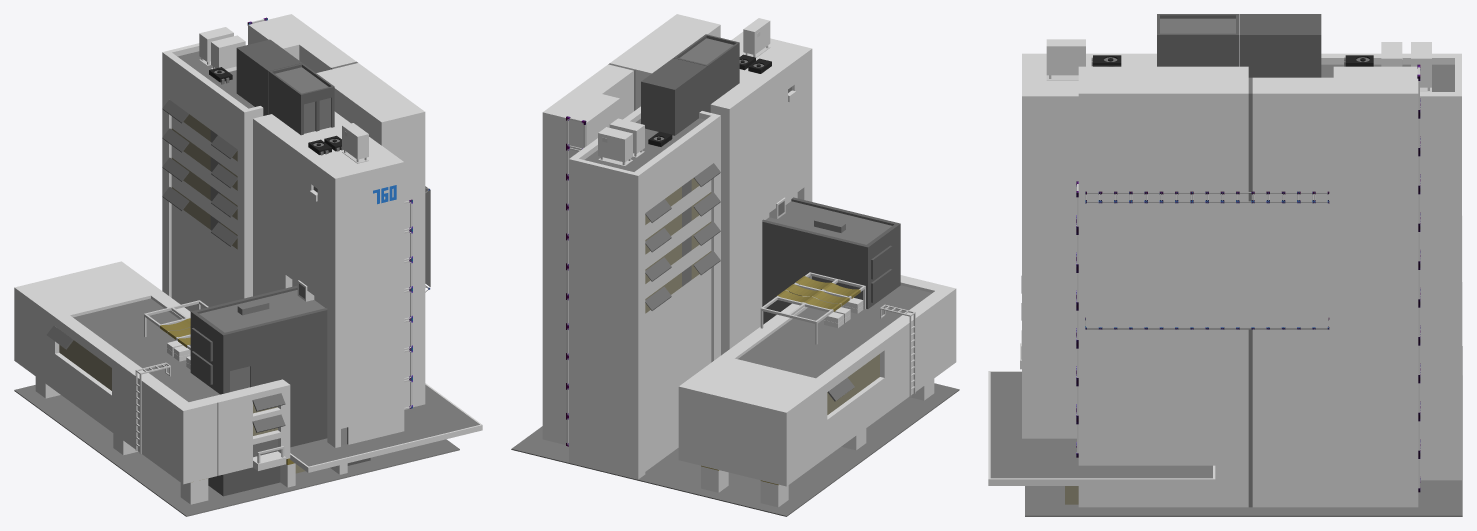
File: Market.fbx
The picture shows the model from 3 angles, left to right: view 1: azimuth 30°, elevation 25°; view 2: azimuth 150°, elevation 25°; view 3: azimuth 270°, elevation 25°; orthographic projection. The views are drawn at different scales.
Parts seen in each view (by area): view 1: Market_LOD00; view 2: Market_LOD00; view 3: Market_LOD00.
Part boxes in pixels (x1=…): Market_LOD00: x1=14, y1=14, x2=482, y2=516; Market_LOD00: x1=511, y1=14, x2=959, y2=516; Market_LOD00: x1=988, y1=14, x2=1462, y2=516.
Size of what is drawn, in the model's own units: 5572 by 6294 by 6197.
